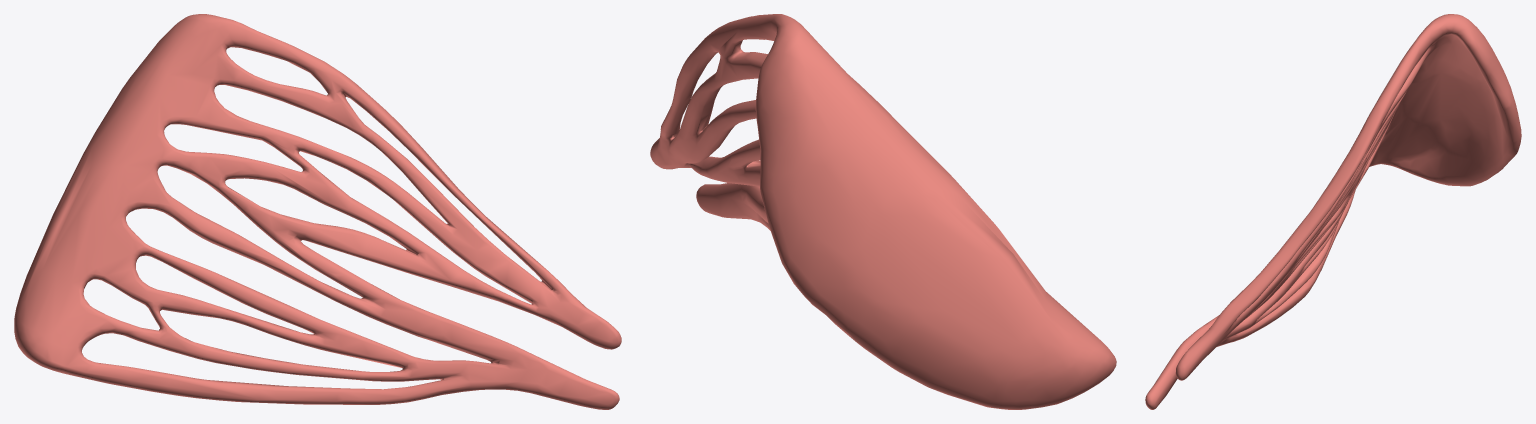
3 views of the same model, side by side, from view 1: azimuth 30°, elevation 25°; view 2: azimuth 150°, elevation 25°; view 3: azimuth 270°, elevation 25° (orthographic). The views are drawn at different scales.
Parts seen in each view (by area): view 1: Posterior leaflet of left atrioventricular valve.018; view 2: Posterior leaflet of left atrioventricular valve.018; view 3: Posterior leaflet of left atrioventricular valve.018.
Part boxes in pixels (x1,y1,x2,y2): Posterior leaflet of left atrioventricular valve.018: (14,14,621,409); Posterior leaflet of left atrioventricular valve.018: (650,14,1116,409); Posterior leaflet of left atrioventricular valve.018: (1145,14,1521,409).
Size of the model in its own units: 1.57 by 1.02 by 1.19.
